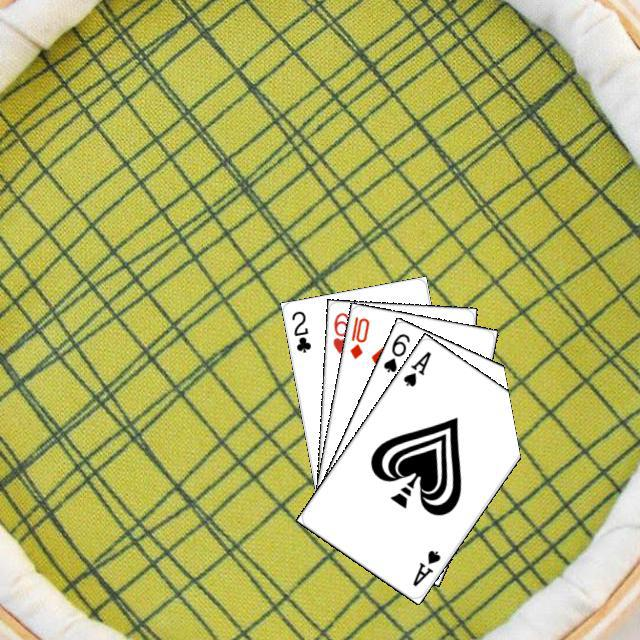10d: (345, 311, 371, 361)
2c: (286, 306, 313, 354)
6h: (328, 308, 350, 355)
6s: (378, 328, 412, 374)
As: (407, 545, 443, 588), (398, 346, 433, 388)
